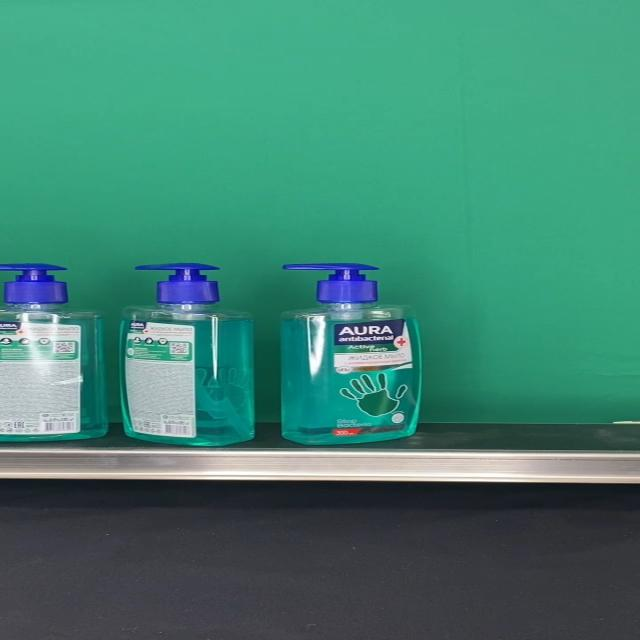Bottle: (281, 262, 422, 444), (118, 262, 254, 446), (0, 263, 109, 442)
Cap: (283, 262, 379, 304), (133, 262, 222, 304), (0, 263, 70, 304)
